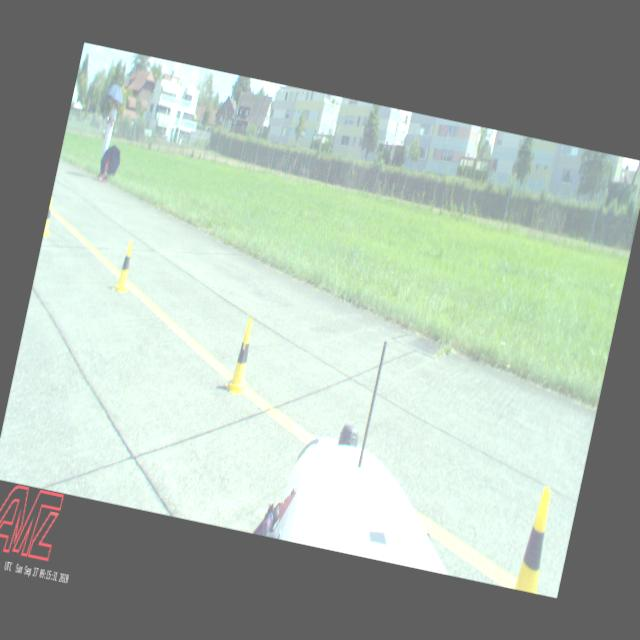yellow_cone: (514, 483, 558, 592), (223, 315, 262, 397), (112, 238, 138, 294), (42, 196, 58, 237)
